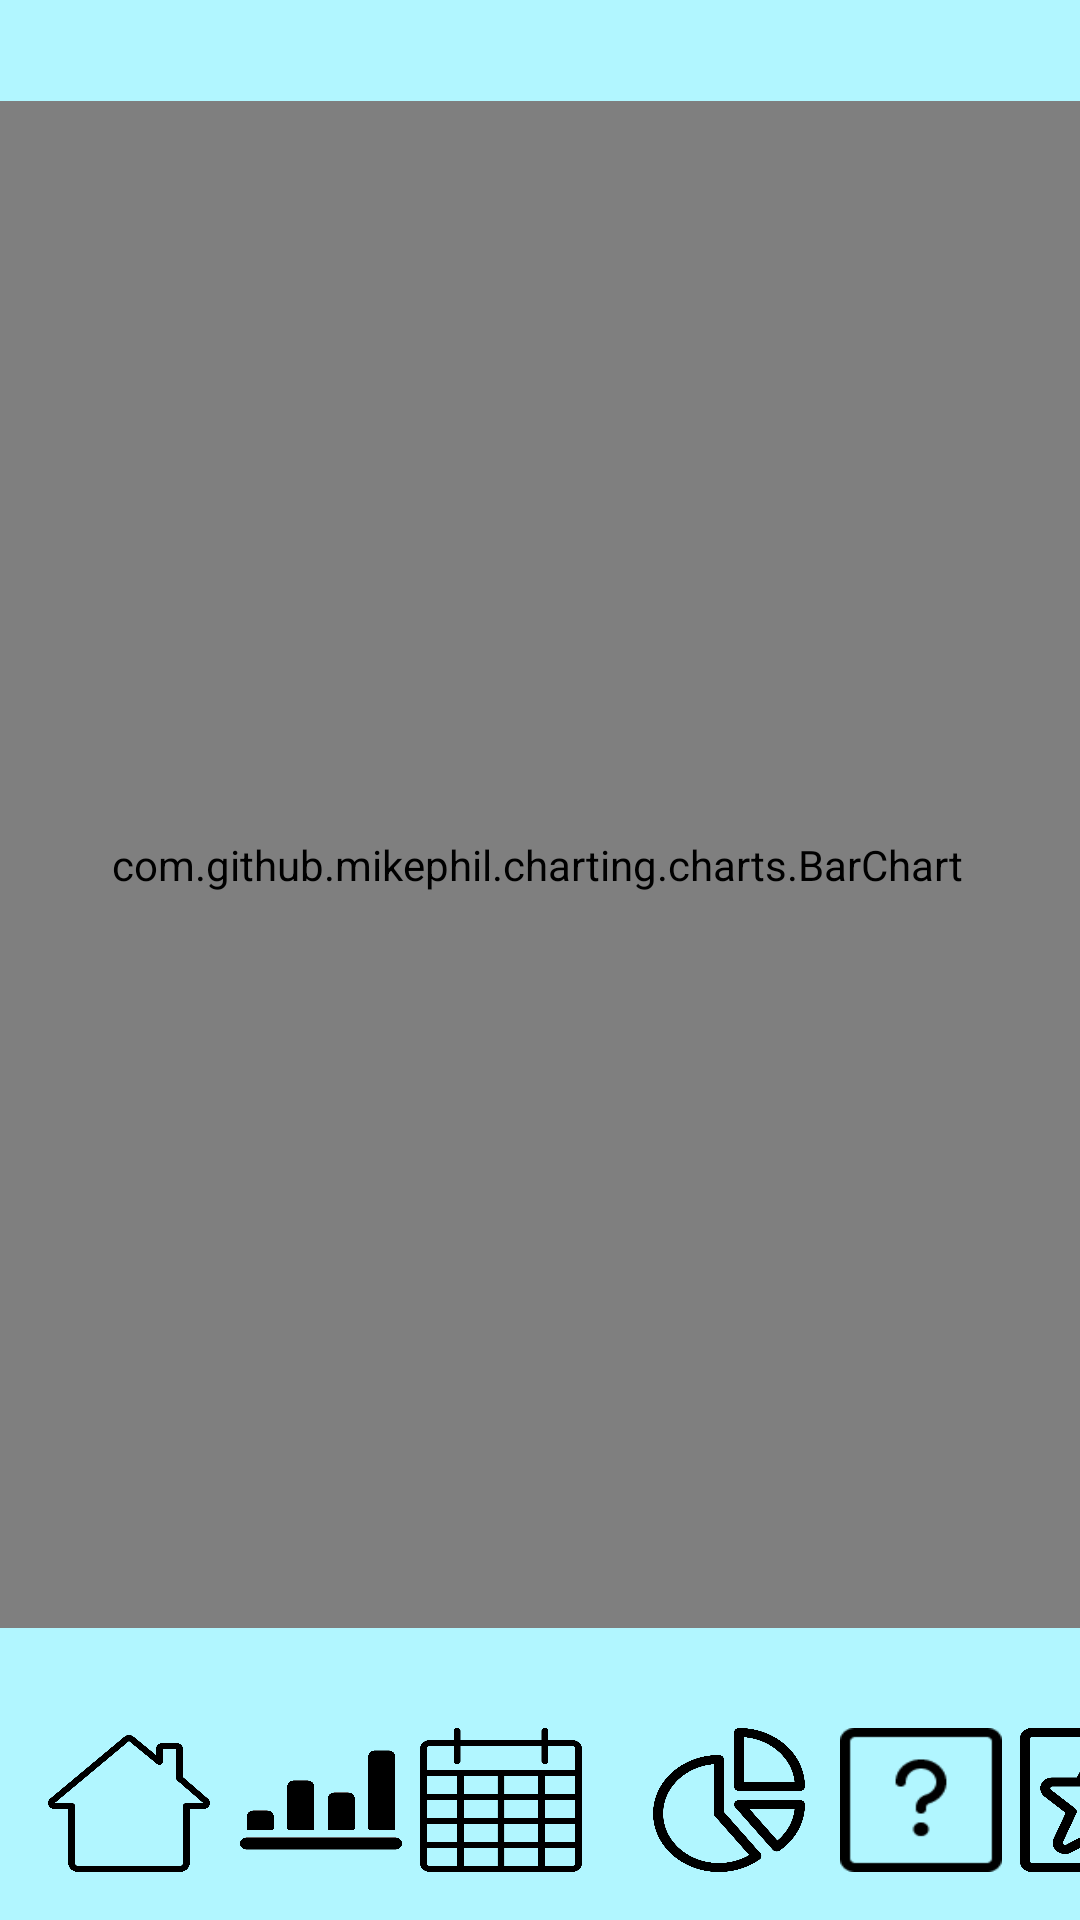

Where icons sit on this 1080×1920 app screen, as (x1, y1, x2, y2):
analytics bars: (240, 1750, 402, 1850)
analytics pie: (653, 1728, 805, 1872)
calendar: (420, 1728, 582, 1872)
house chimney: (48, 1735, 210, 1872)
question help square: (840, 1728, 1002, 1872)
